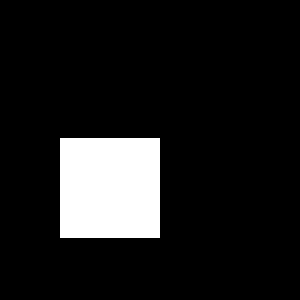circle: (60, 138, 160, 238)
